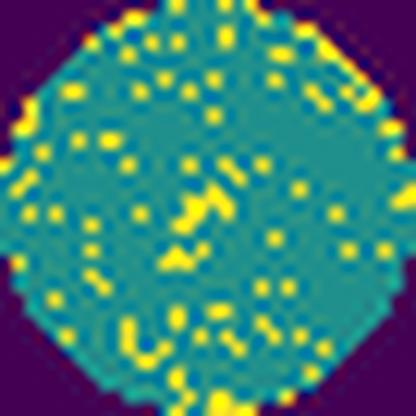Center: (168, 182, 244, 235)
